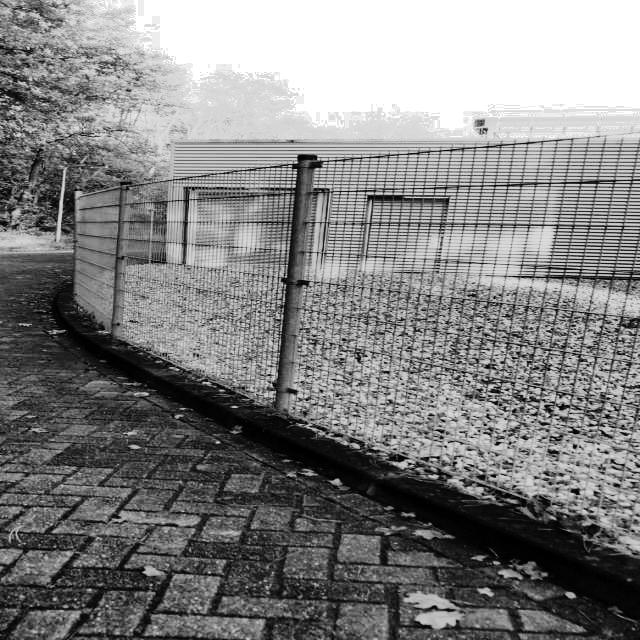fences: (321, 167, 640, 537), (56, 162, 298, 366)
